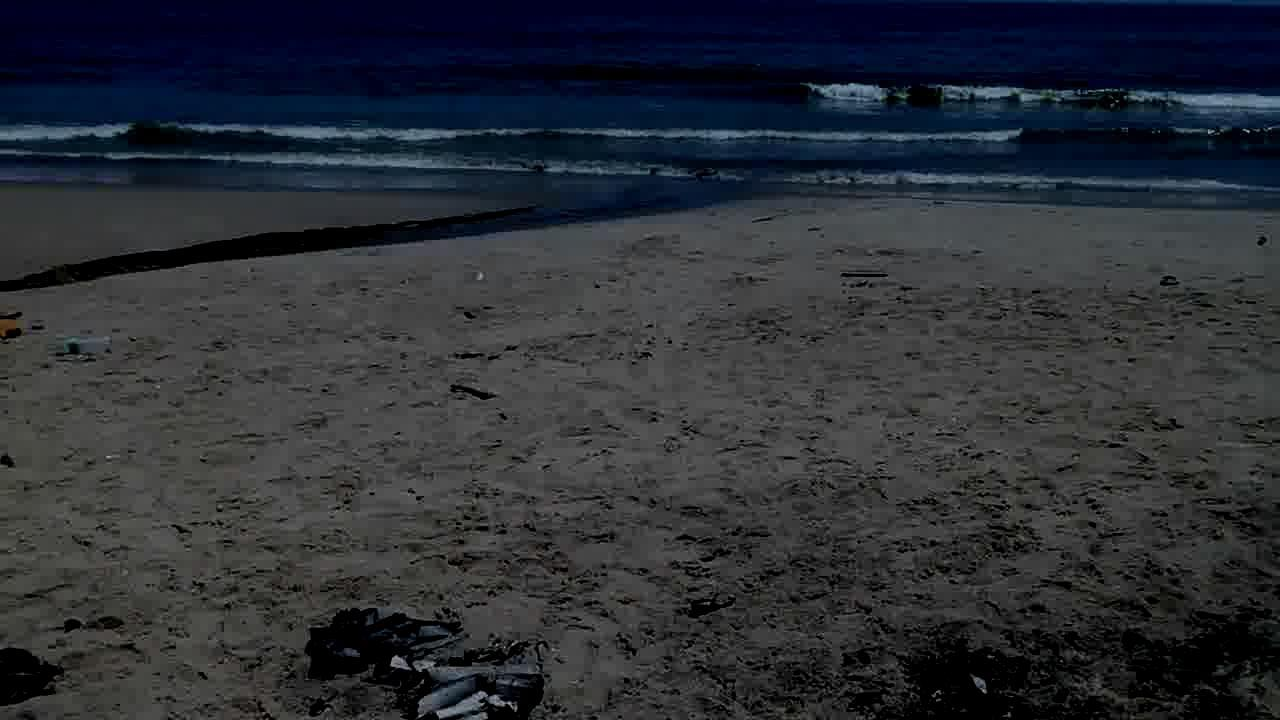large collection of objects: (906, 641, 1031, 719)
obj: (291, 597, 560, 719), (1, 646, 70, 710), (54, 338, 111, 358), (693, 598, 736, 620), (448, 383, 496, 402), (838, 268, 894, 279)
sand/background: (0, 0, 1279, 286)
